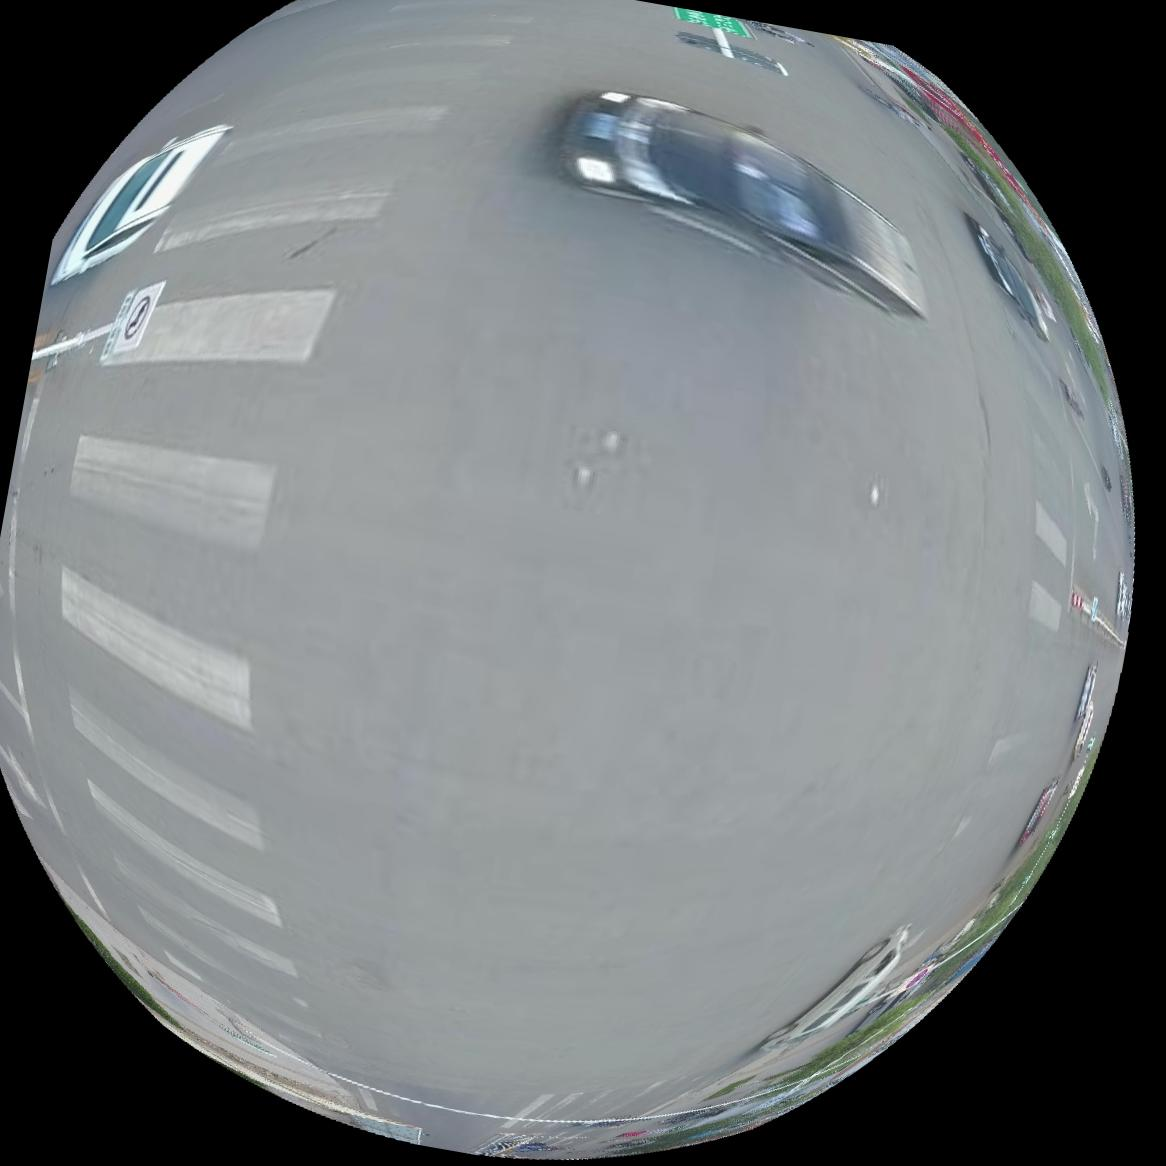cars: (558, 89, 926, 315), (49, 124, 226, 283), (761, 927, 909, 1053), (967, 215, 1048, 341), (1073, 666, 1097, 759), (1117, 573, 1132, 622)
